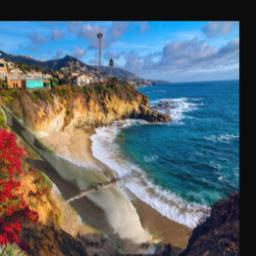Cuckoo: (0, 103, 165, 255)
